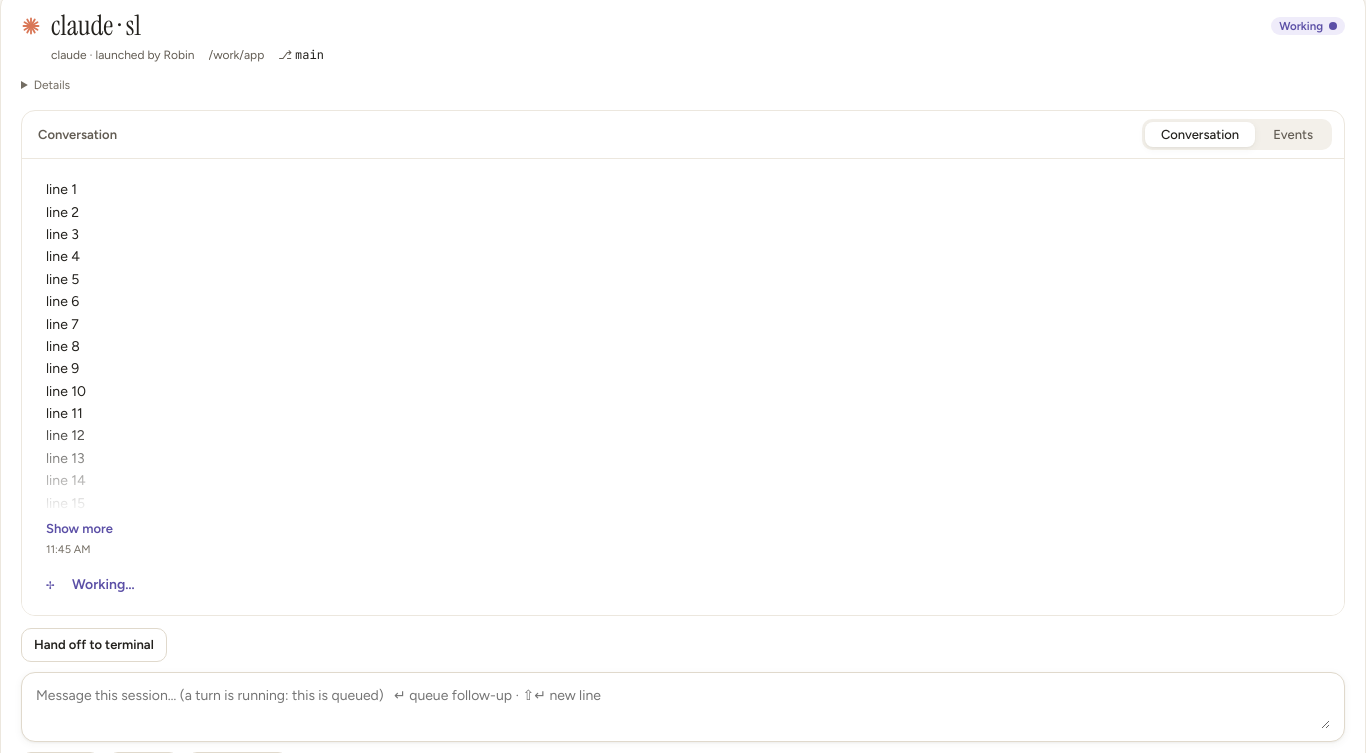
Test: a long reply is folded until asked for the rest
Expected: the element with class "folded" is shown, [46,181,86,534]
Click the button "Show more": (80, 529) [46,519,113,538]
(page scrolled)
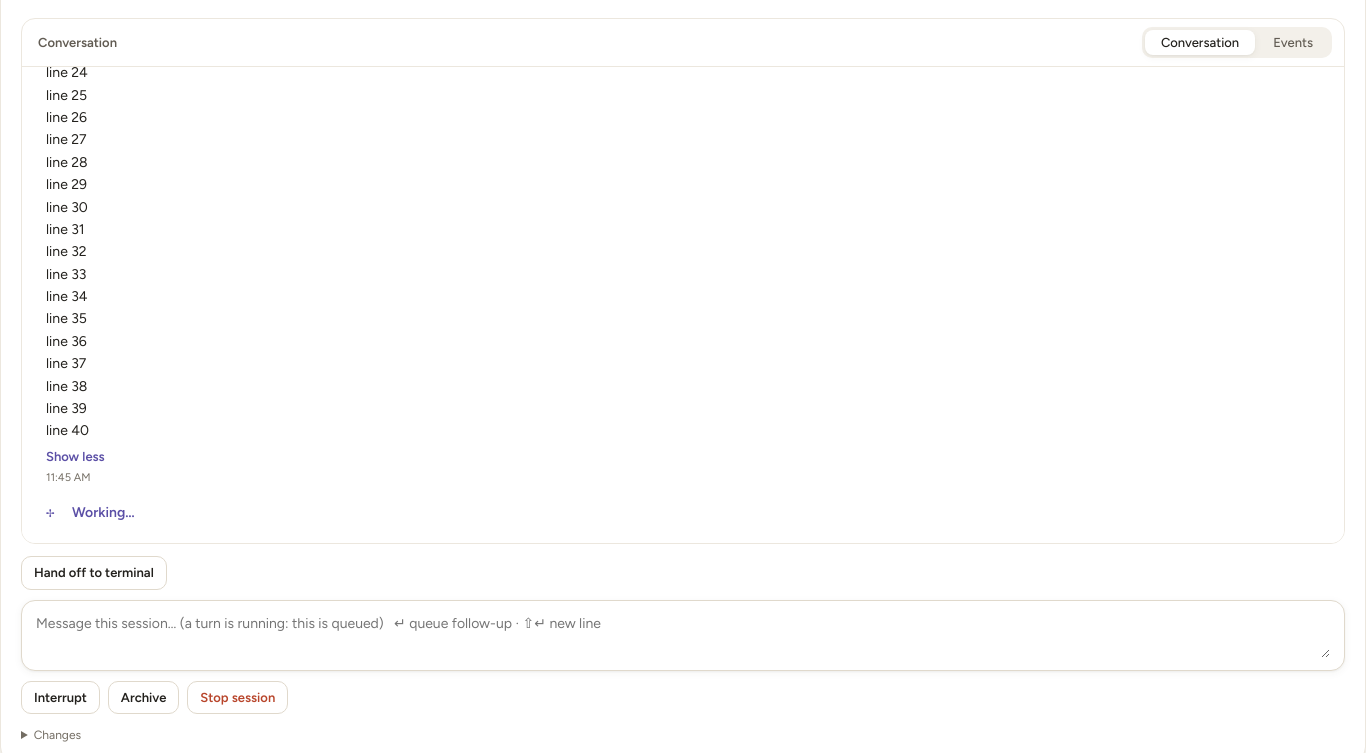
Expected: the button "Show less" is shown, [46,447,105,466]
